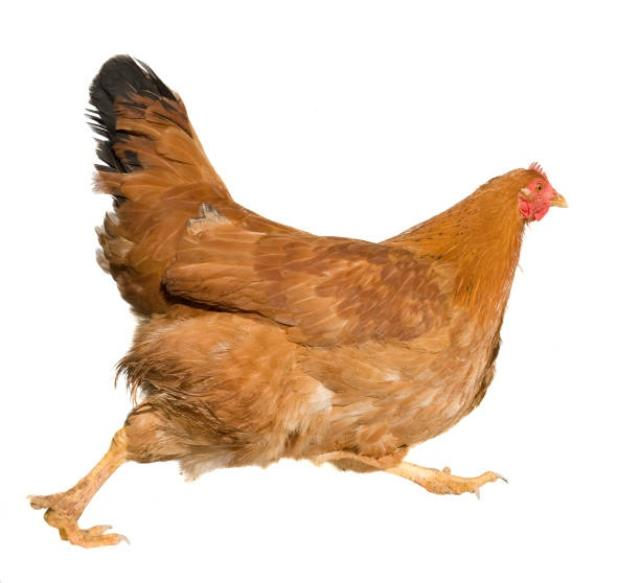Chicken: (26, 52, 568, 551)
